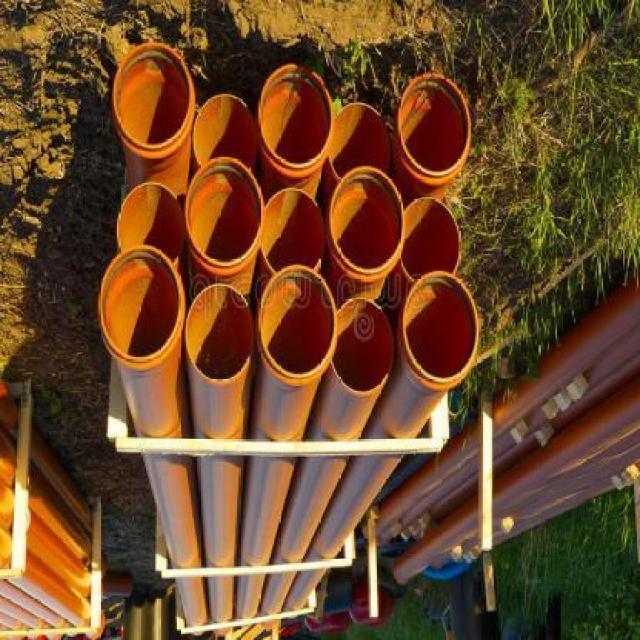pipe: (99, 245, 182, 362), (259, 265, 339, 379), (186, 157, 265, 268), (402, 271, 479, 384), (113, 42, 193, 148), (329, 165, 406, 273), (258, 63, 334, 166), (397, 72, 471, 174), (187, 283, 256, 382), (332, 296, 394, 393), (117, 182, 185, 264), (262, 188, 327, 273), (400, 197, 462, 282), (194, 94, 259, 170), (329, 102, 391, 181)
